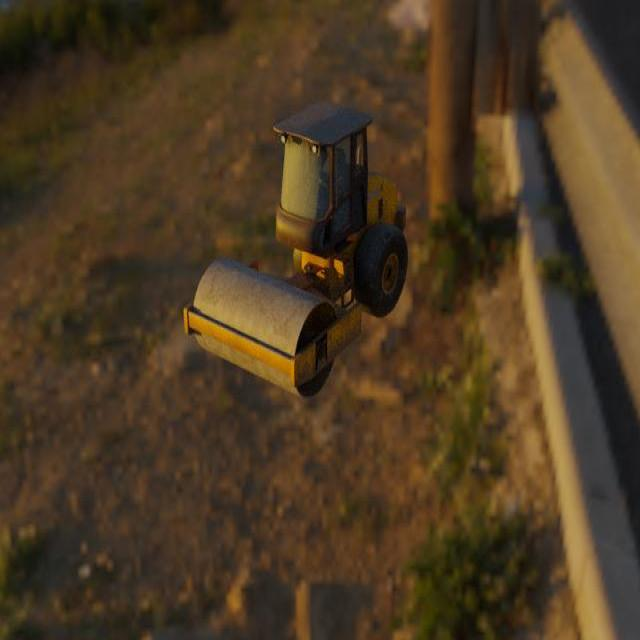Roller: (183, 101, 408, 399)
